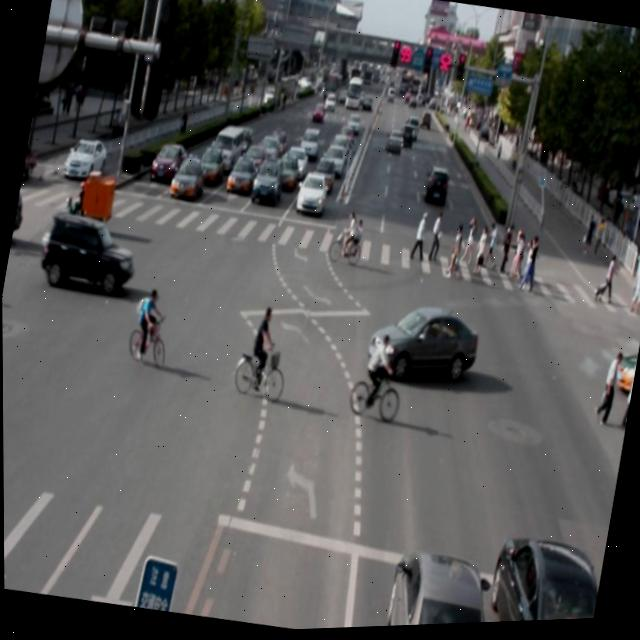car: (475, 530, 604, 626), (364, 295, 482, 390), (378, 546, 499, 629), (38, 206, 141, 298)
